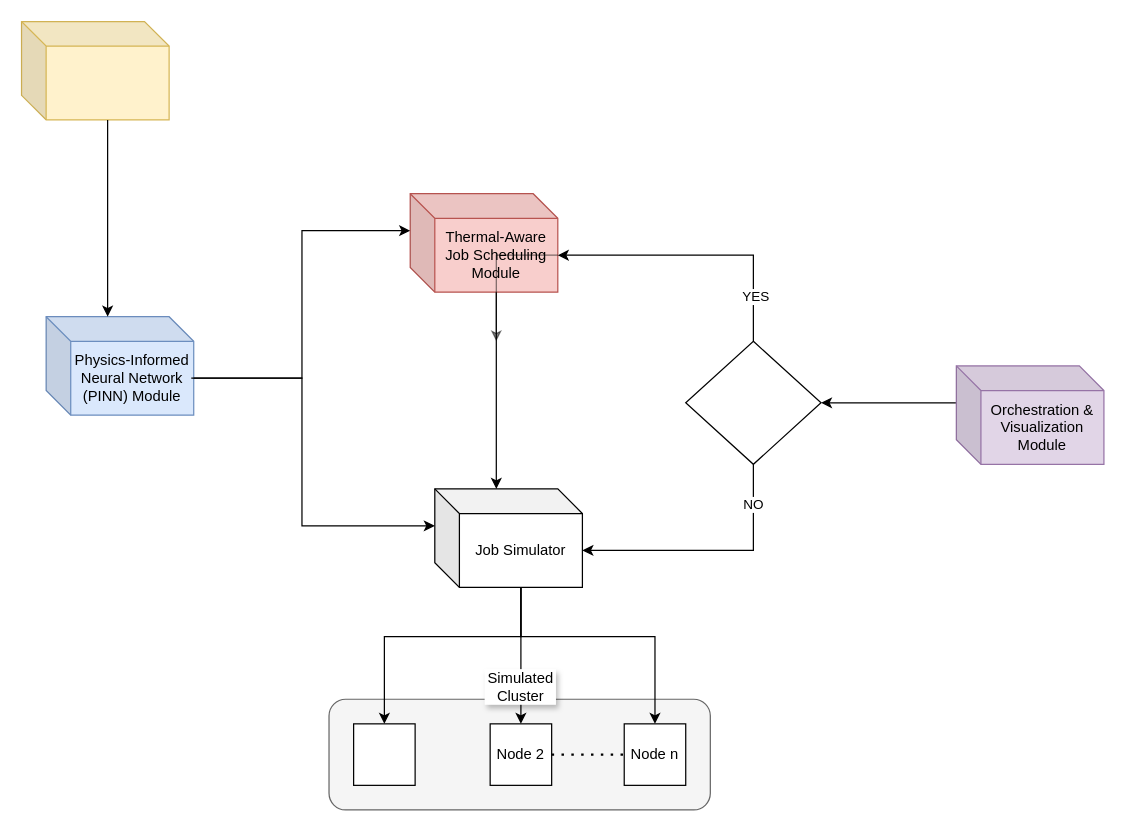
Some shapes in this 1125 by 831 pixel diagram are drawn without their labels. Here are the shapes that lost their labels. From the top down, the centre of each, then its label:
At pixel 94 70: "Data Engineering Module".
At pixel 752 402: "Thermal- Aware Scheduling?".
At pixel 383 754: "Node 1".
